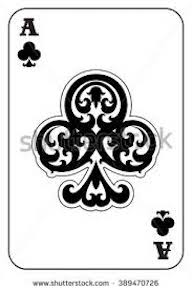AceOfClubs: (4, 4, 187, 273)
